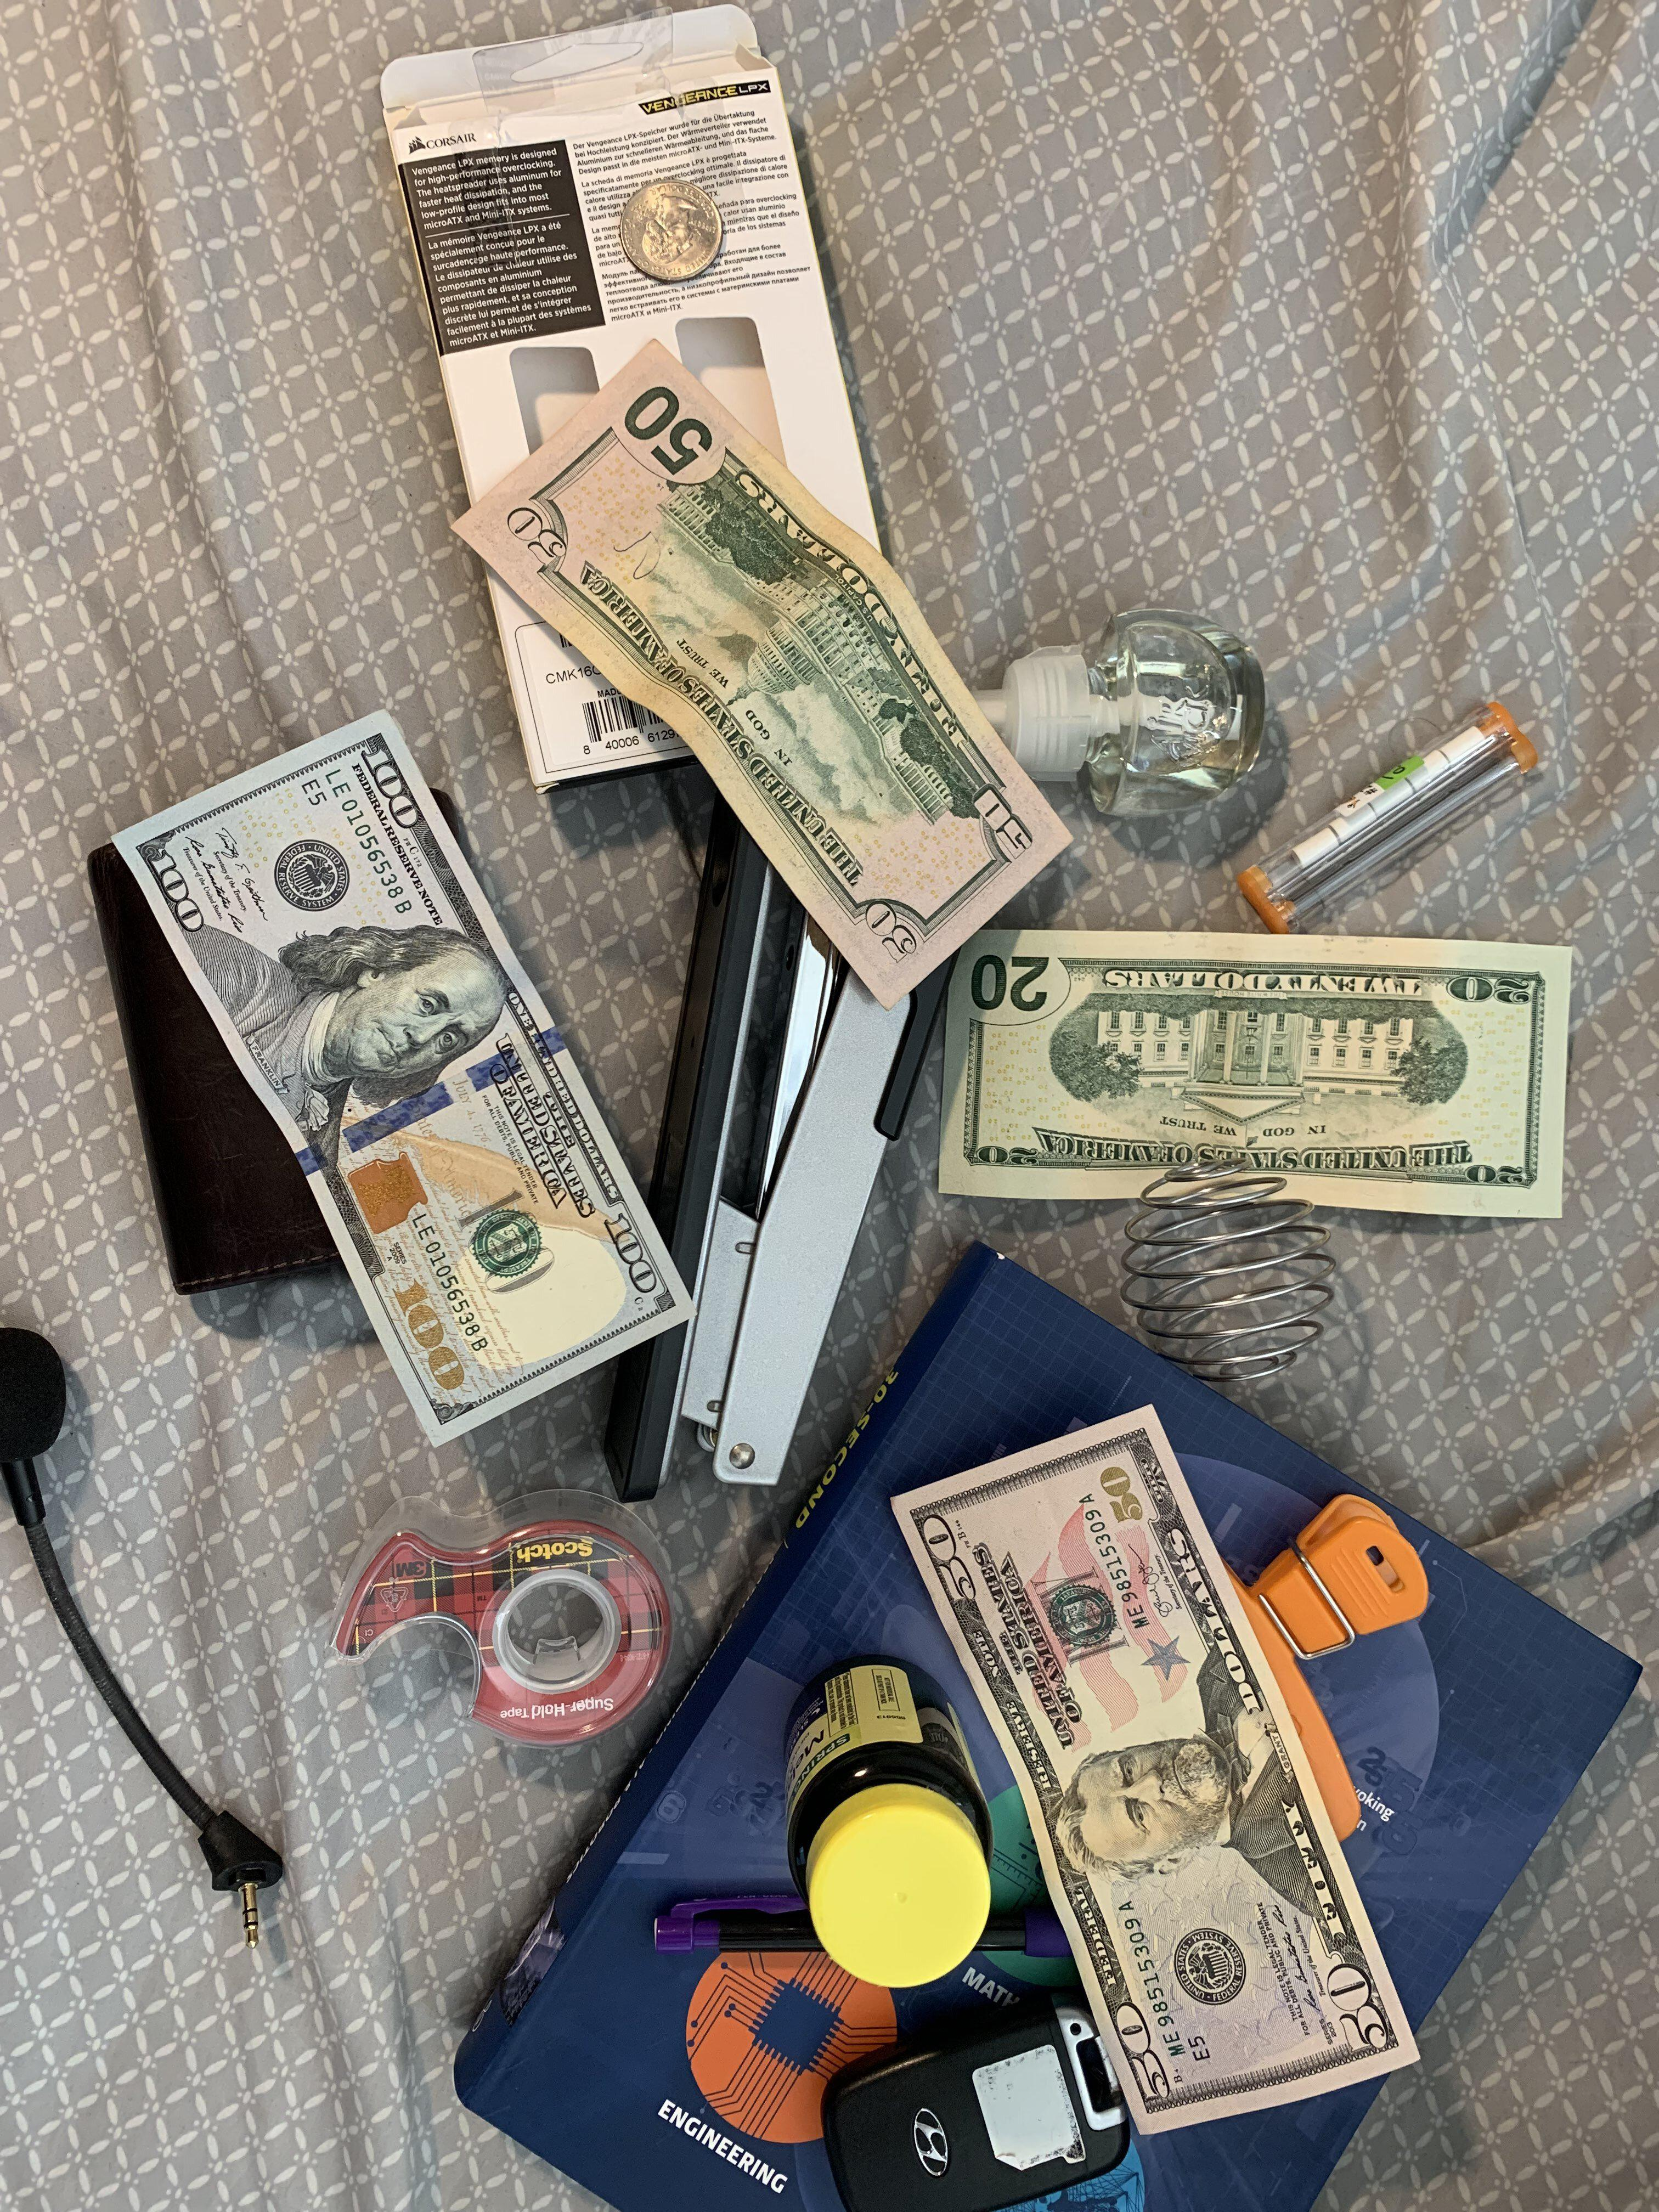FiftyBill: (854, 1381, 1499, 2151), (410, 303, 1091, 1017)
HundredBill: (56, 690, 714, 1465)
Quarter: (594, 164, 751, 305)
TwentyBill: (904, 892, 1615, 1282)
